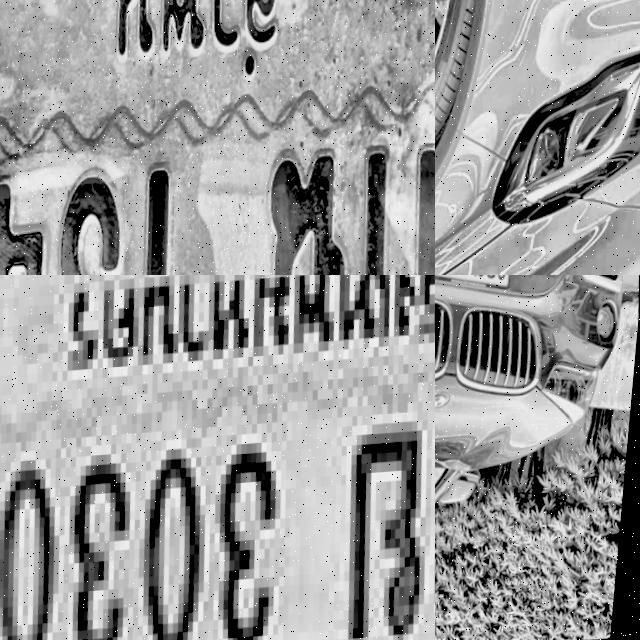license-plate: (0, 275, 435, 640), (0, 0, 435, 275), (435, 275, 526, 302)
